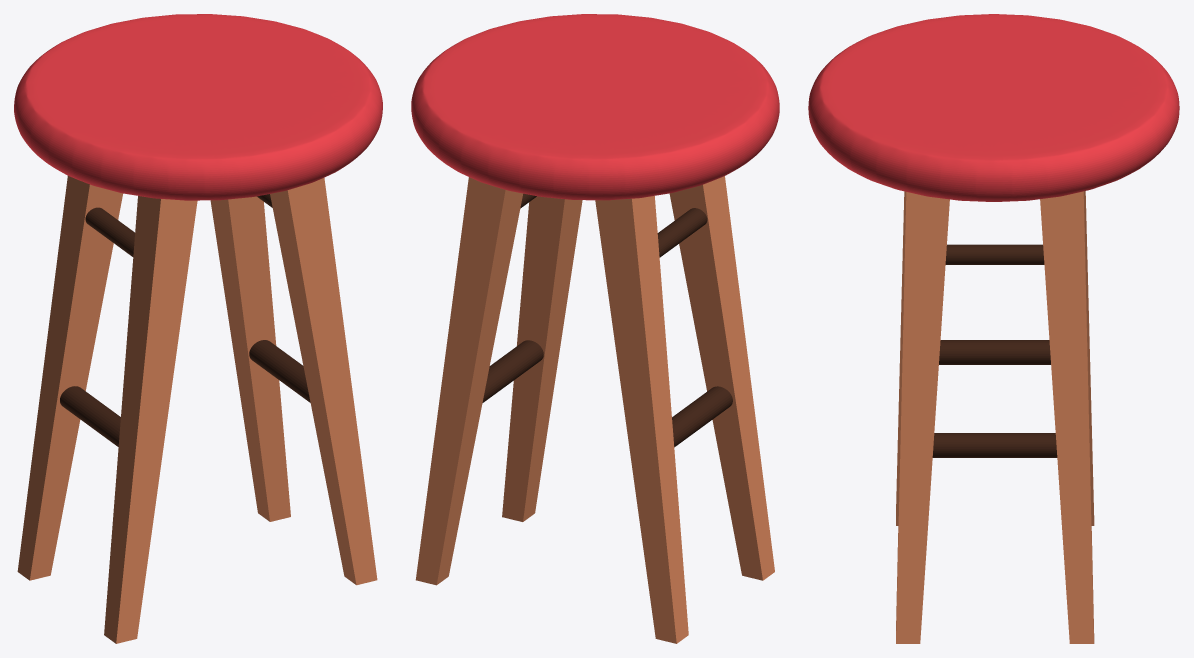
File: barstool.fbx
3 views of the same model, side by side, from view 1: azimuth 30°, elevation 25°; view 2: azimuth 150°, elevation 25°; view 3: azimuth 270°, elevation 25° (orthographic).
Parts seen in each view (by area): view 1: Cube, seat, Cylinder.001, Cylinder.002; view 2: Cube, seat, Cylinder.001, Cylinder.002; view 3: seat, Cube, Cylinder.001, Cylinder.002.
Boxes of the visible parts, box(x1,y1,x2,y2) form: Cube: box(17, 176, 377, 643); seat: box(14, 14, 382, 200); Cylinder.001: box(60, 340, 310, 446); Cylinder.002: box(85, 194, 272, 256); Cube: box(415, 176, 774, 643); seat: box(411, 14, 779, 200); Cylinder.001: box(482, 340, 732, 447); Cylinder.002: box(520, 193, 707, 257); seat: box(808, 14, 1179, 201); Cube: box(896, 191, 1094, 643); Cylinder.001: box(932, 340, 1057, 457); Cylinder.002: box(945, 244, 1044, 264).
Bounding box in the file's own units: 20.8 × 30.53 × 20.8.
